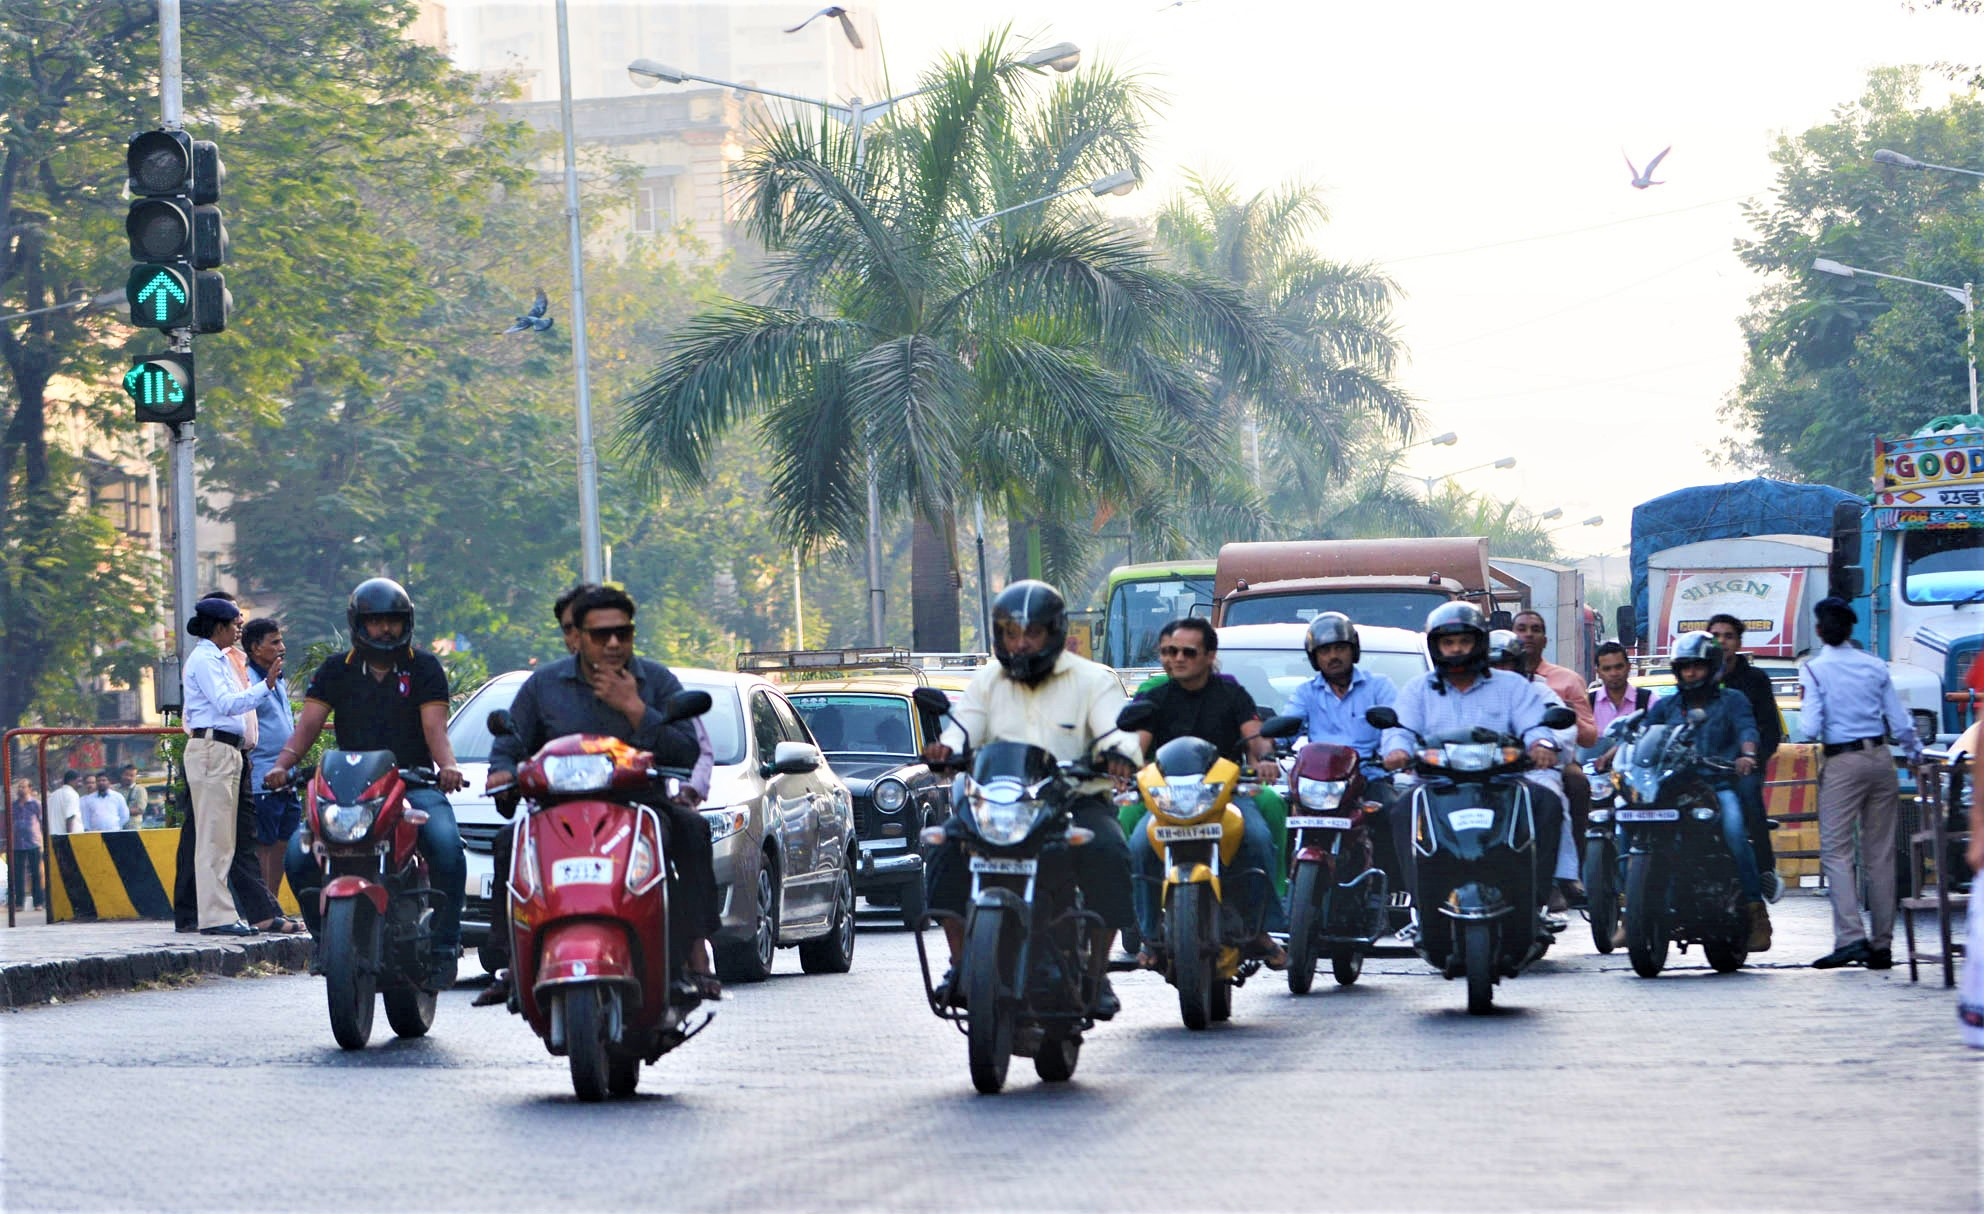helmet: (988, 572, 1061, 673), (1417, 592, 1489, 693), (349, 569, 421, 669), (1300, 606, 1363, 671), (1667, 633, 1727, 688)
